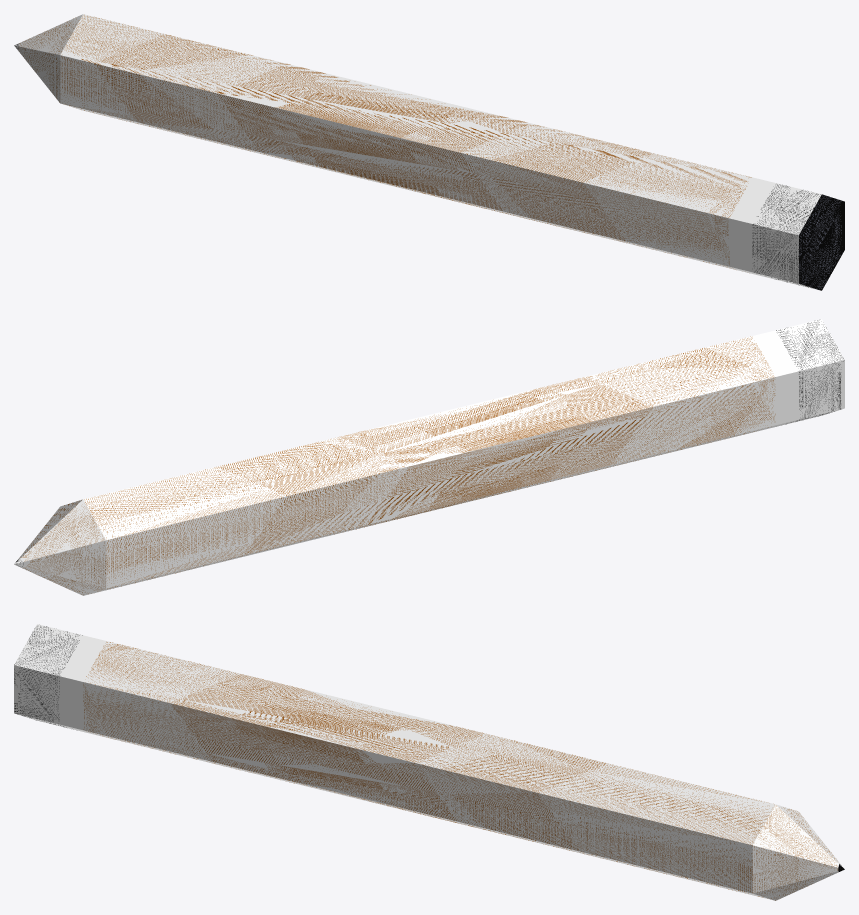
Rendered from pen.dae.
The picture shows the model from 3 angles, top to bottom: view 1: azimuth 90°, elevation 25°; view 2: azimuth 150°, elevation 25°; view 3: azimuth 270°, elevation 25°; orthographic projection.
Visible parts, largest first — view 1: SketchUp (×4); view 2: SketchUp (×4); view 3: SketchUp (×4).
Part boxes in pixels (x1,y1,x2,y2): SketchUp (×4): [18, 14, 844, 290]; SketchUp (×4): [18, 319, 844, 595]; SketchUp (×4): [14, 624, 839, 900].
Bounding box in the file's own units: 3.74 × 6.14 × 0.7874.
